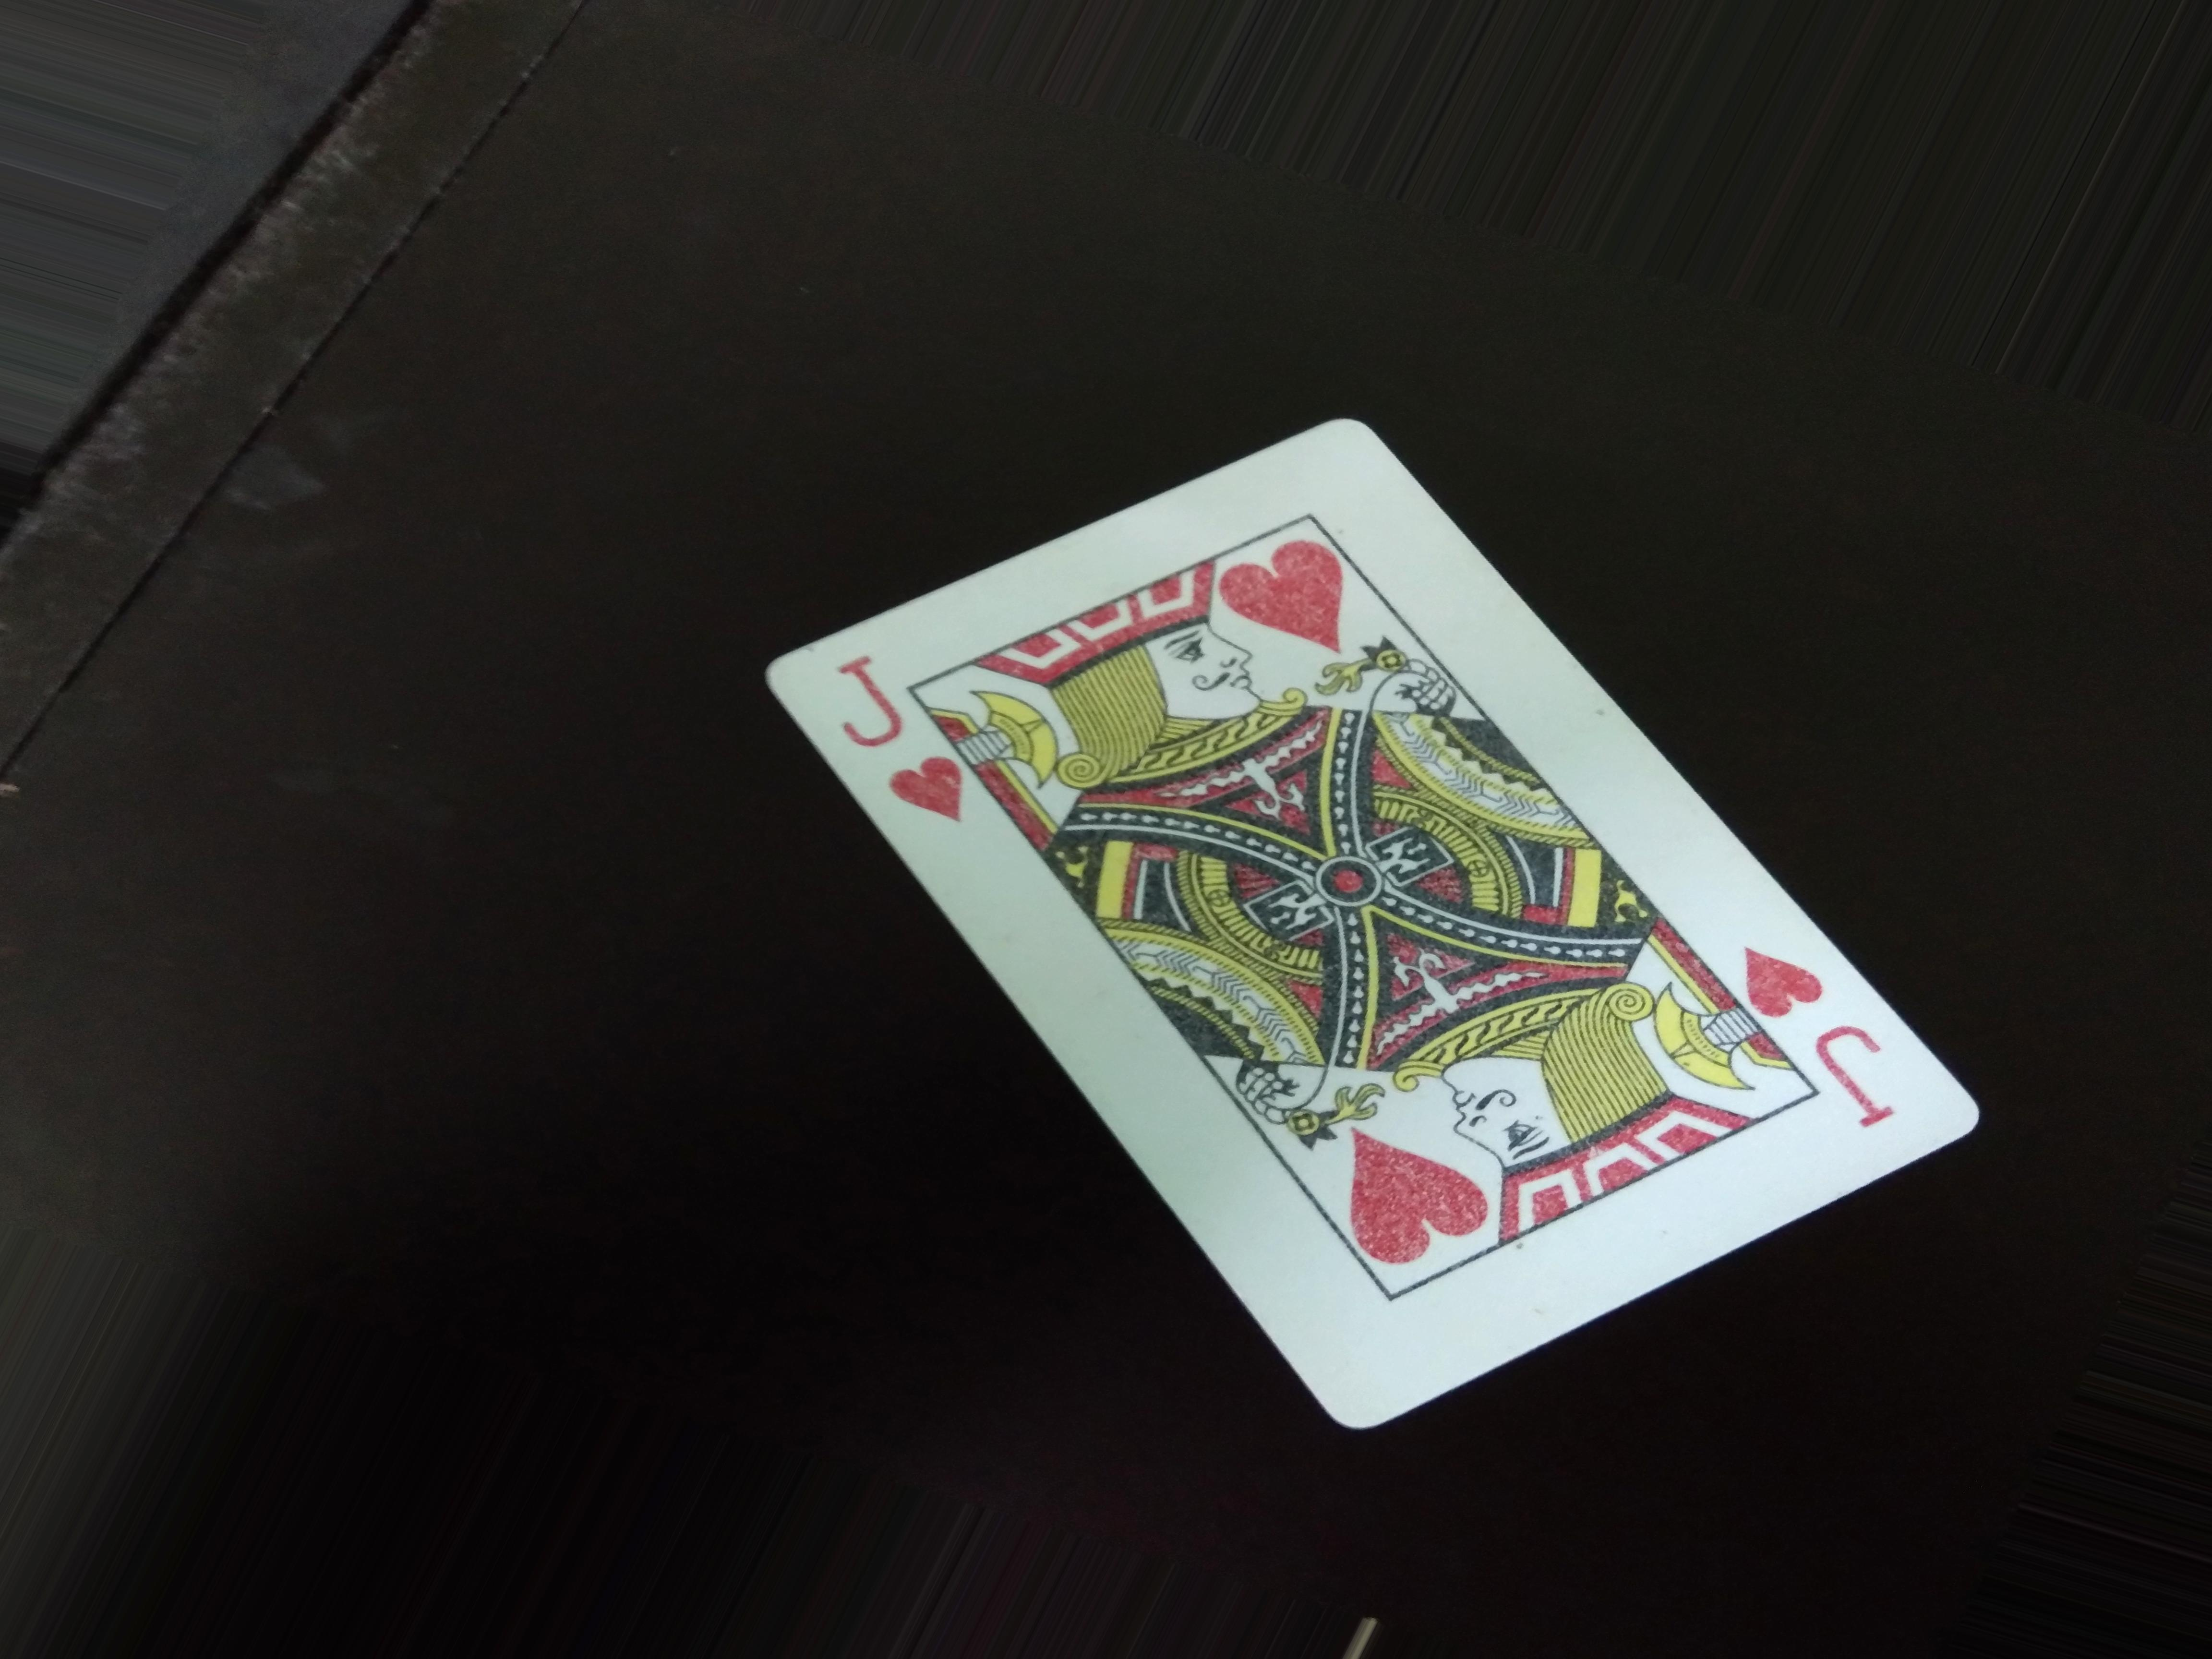JH: (836, 650, 972, 854)
